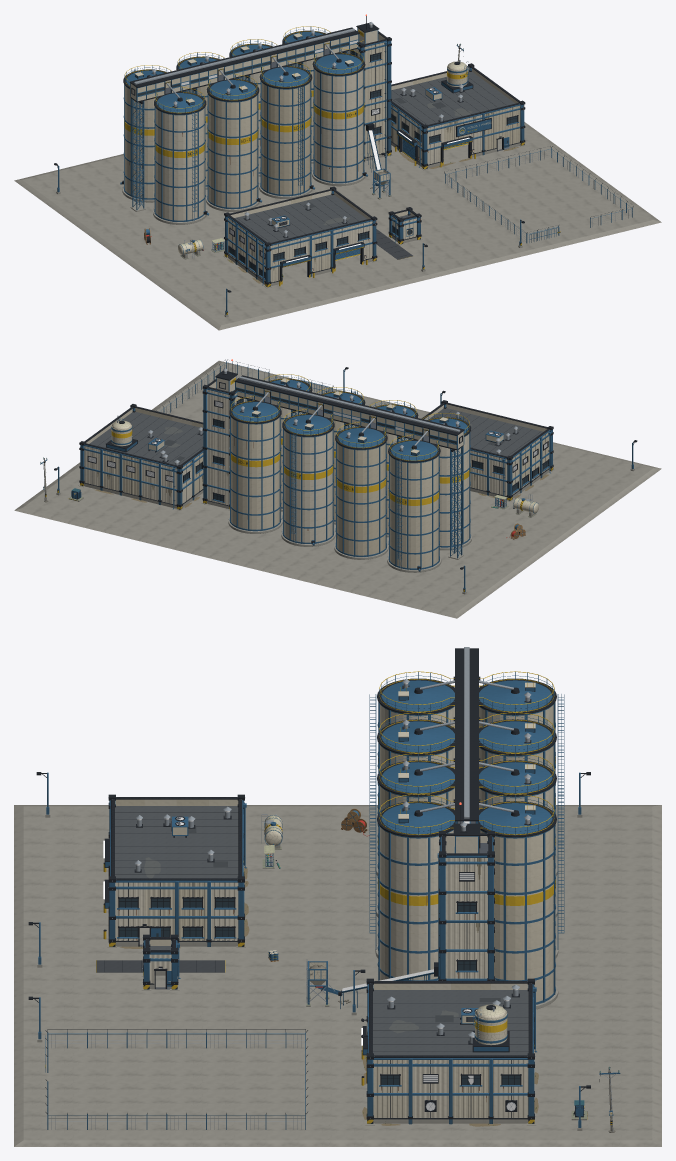
The model's file is silo_district.glb.
3 renders of one model, top to bottom at view 1: azimuth 30°, elevation 25°; view 2: azimuth 150°, elevation 25°; view 3: azimuth 270°, elevation 25°, orthographic. The views are drawn at different scales.
Visible parts, largest first — view 1: silo_district.001; view 2: silo_district.001; view 3: silo_district.001.
Boxes of the visible parts, x1,y1,x2,y2 form: silo_district.001: (14,14,661,330); silo_district.001: (14,359,661,618); silo_district.001: (14,647,661,1146).
Size of what is drawn, in the model's own units: 100 by 30.76 by 80.4.
142 materials, 139 textured.
